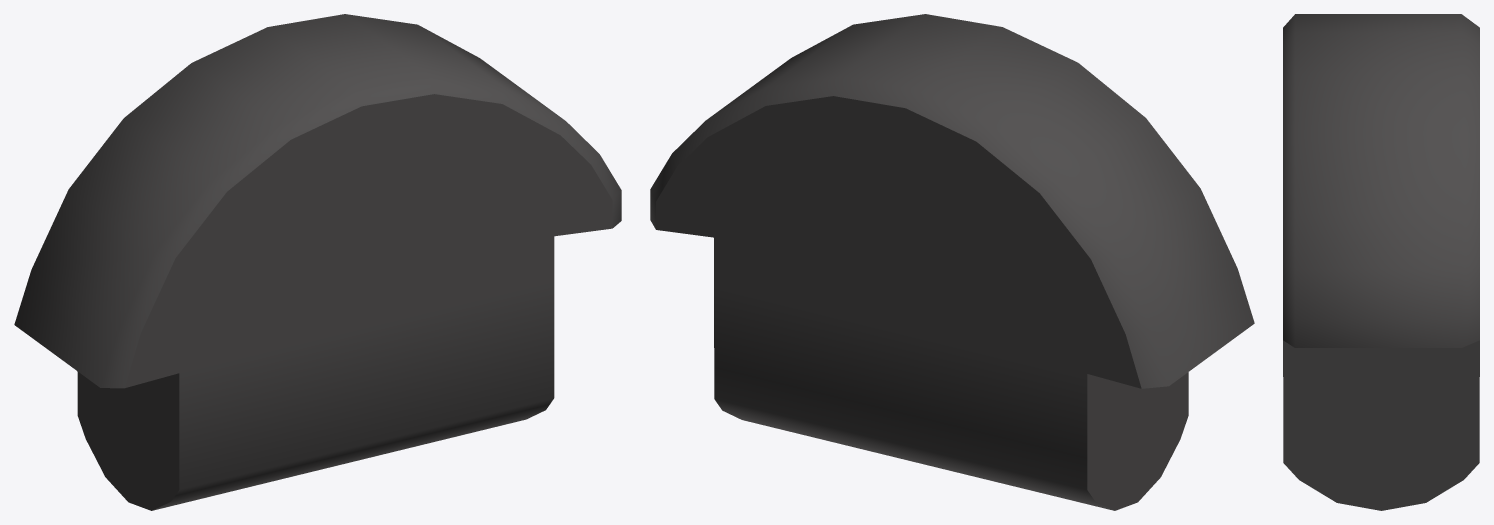
The model's file is LAnklePitch.dae.
3 renders of one model, left to right at view 1: azimuth 30°, elevation 25°; view 2: azimuth 150°, elevation 25°; view 3: azimuth 270°, elevation 25°, orthographic. The views are drawn at different scales.
Parts seen in each view (by area): view 1: LAnklePitch; view 2: LAnklePitch; view 3: LAnklePitch.
Part boxes in pixels (x1,y1,x2,y2): LAnklePitch: [14, 14, 621, 510]; LAnklePitch: [650, 14, 1254, 510]; LAnklePitch: [1283, 14, 1479, 510].
Size of the model in its own units: 0.0841 by 0.0285 by 0.0618.
